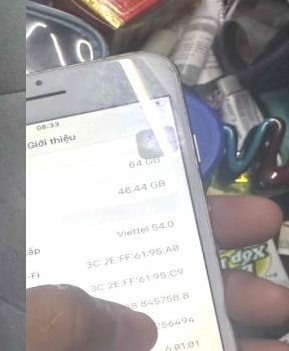scratch: (72, 42, 181, 117), (26, 65, 55, 109)
